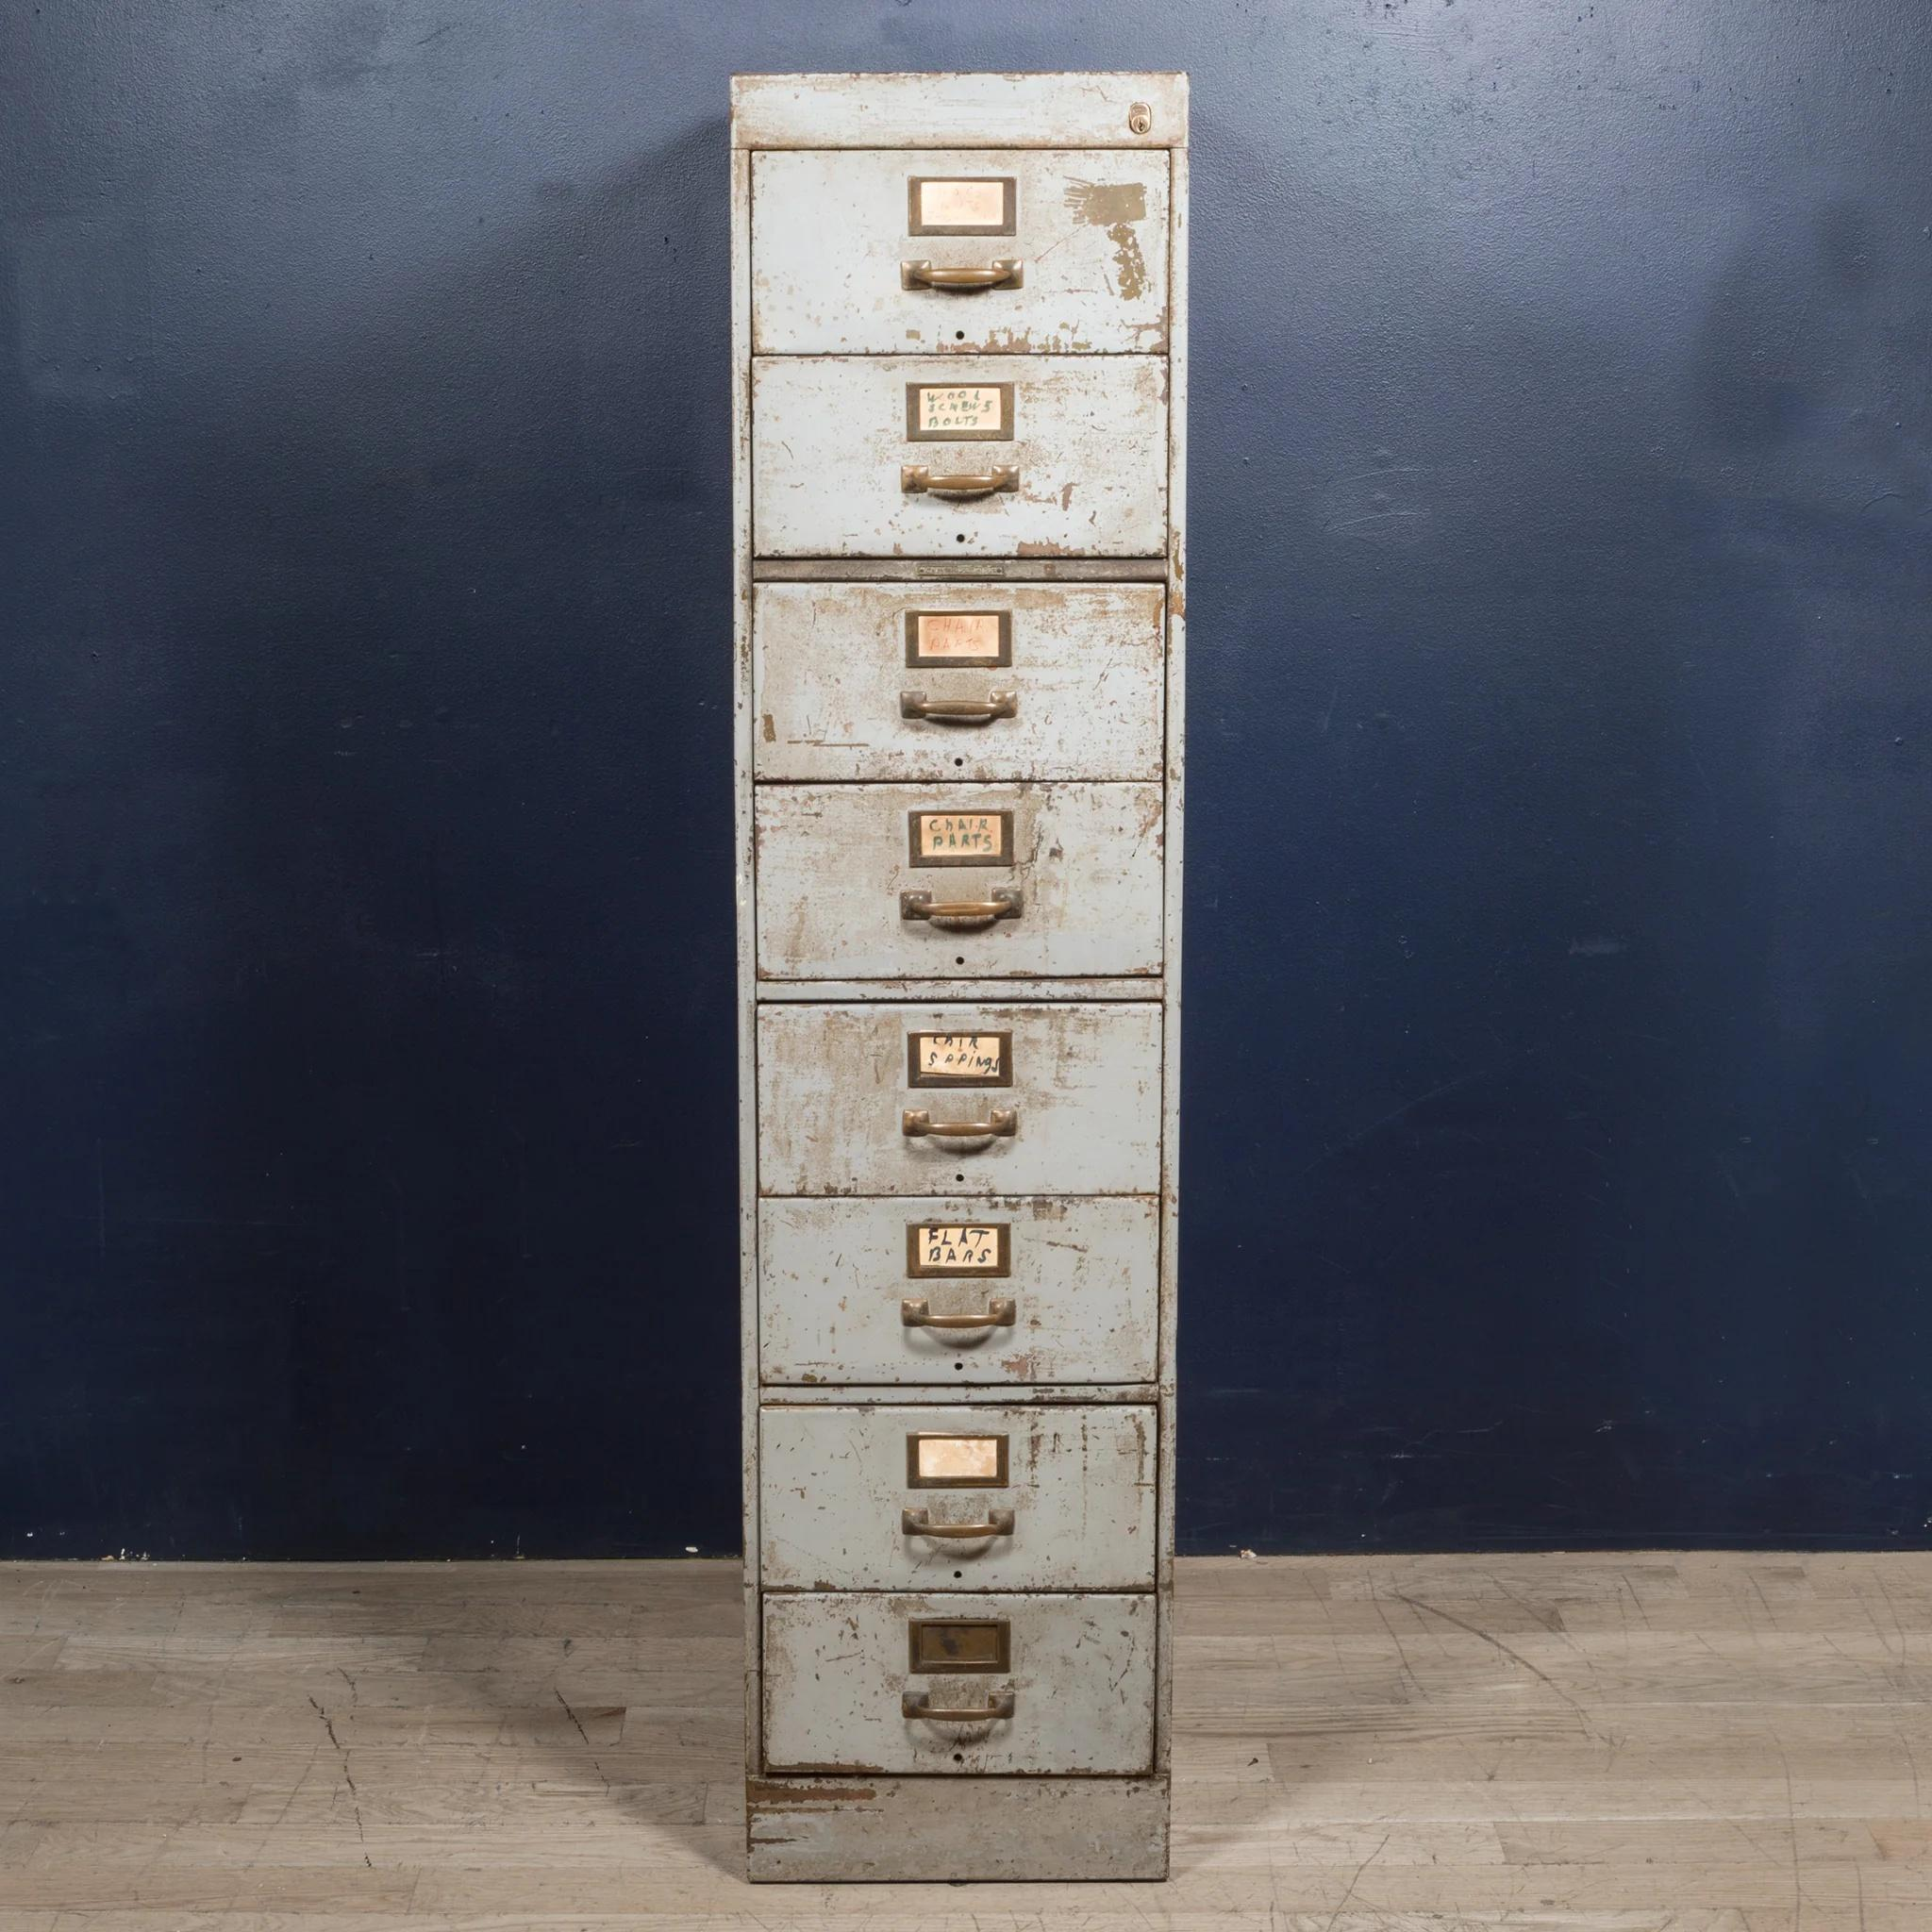Filing Cabinet: (724, 69, 1194, 1886)
